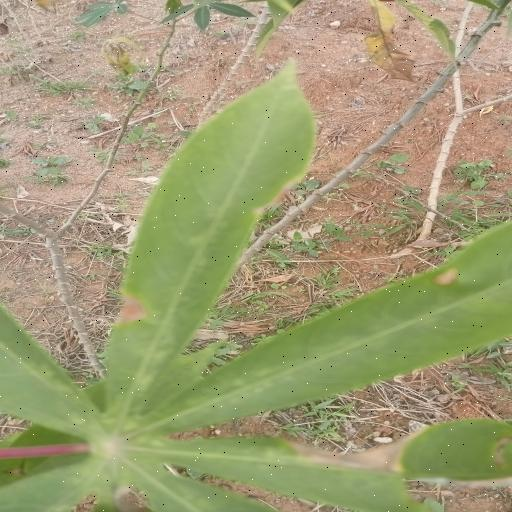Cassava_Brown_Leaf_Spot: (7, 75, 512, 512)
